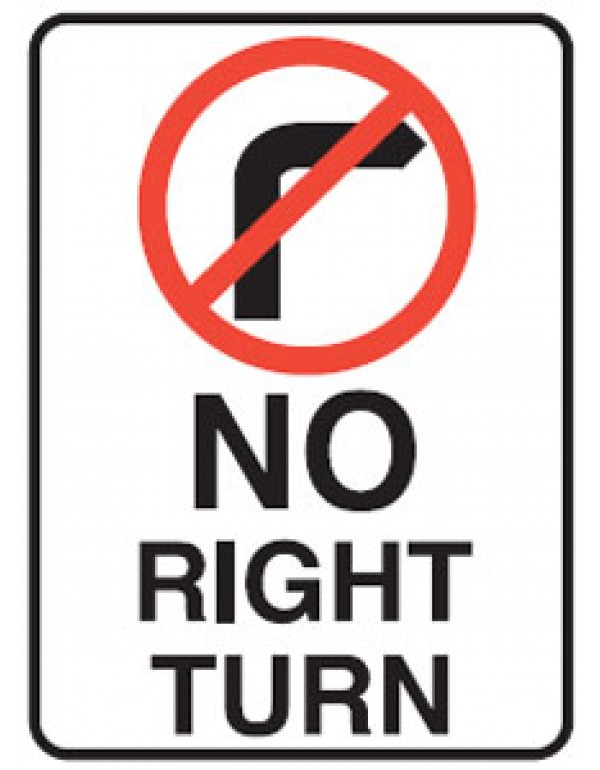No_right_turn: (137, 39, 478, 374)
